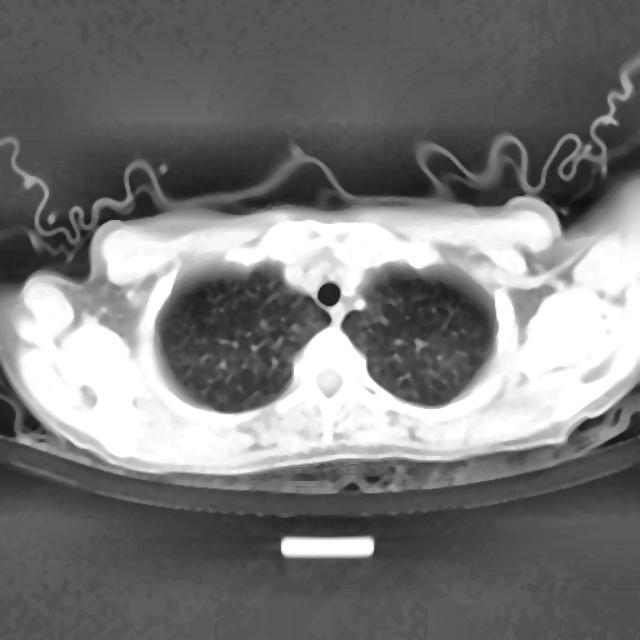covid: (3, 163, 638, 491)
